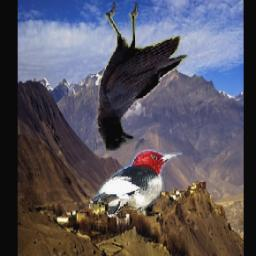Crow: (96, 3, 189, 152)
Woodpecker: (91, 149, 184, 217)
